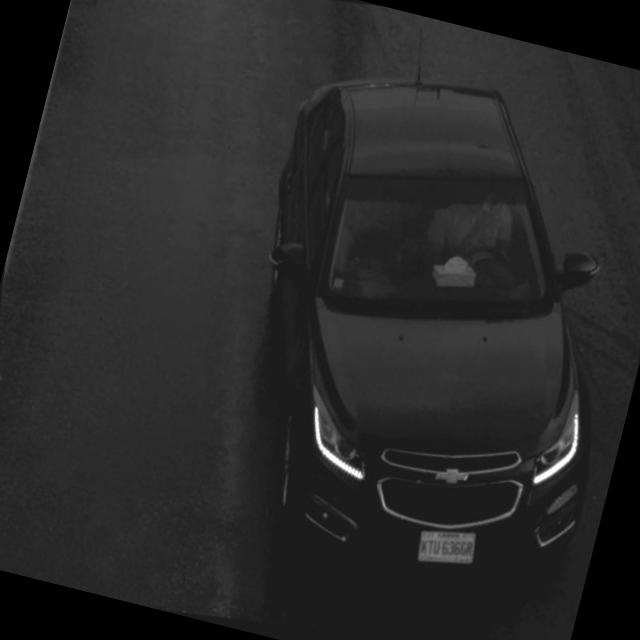person_with_seatbelt: (411, 172, 543, 322)
